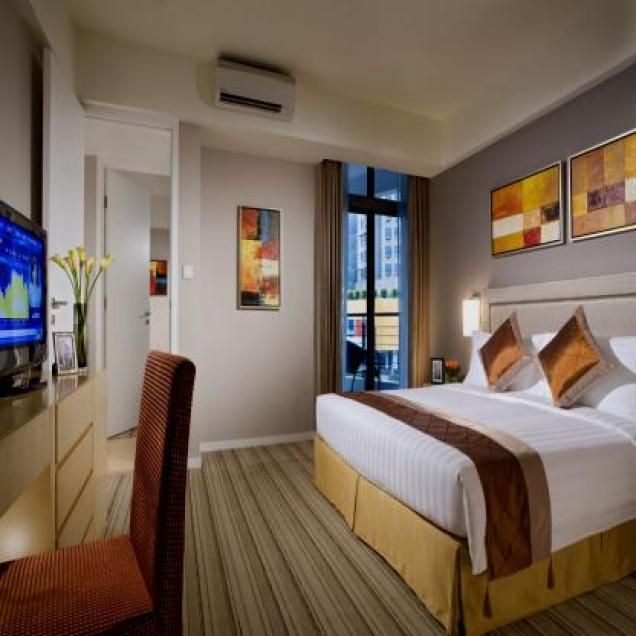AC: (212, 56, 295, 122)
Kursi: (0, 349, 194, 635)
